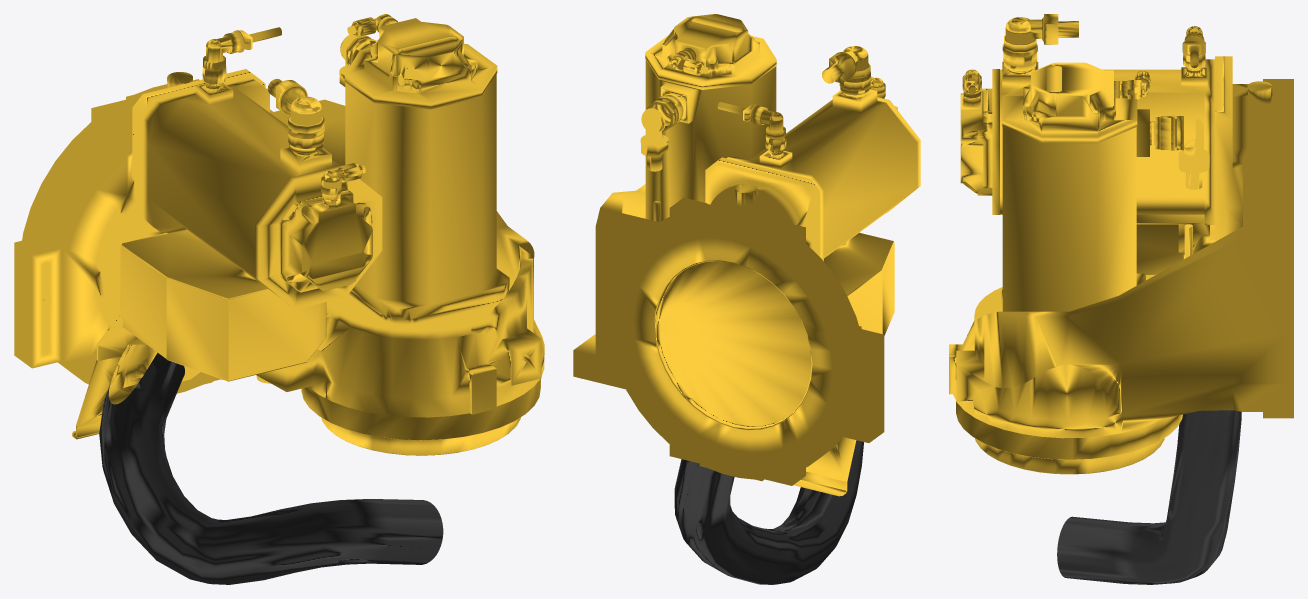
3 views of the same model, side by side, from view 1: azimuth 30°, elevation 25°; view 2: azimuth 150°, elevation 25°; view 3: azimuth 270°, elevation 25° (orthographic). The views are drawn at different scales.
Parts seen in each view (by area): view 1: Node_0x7fd4b585cda0 (×2); view 2: Node_0x7fd4b585cda0 (×2); view 3: Node_0x7fd4b585cda0 (×2).
Part boxes in pixels (box(x1,y1,x2,y2)): Node_0x7fd4b585cda0 (×2): box(14, 14, 544, 584); Node_0x7fd4b585cda0 (×2): box(573, 14, 920, 584); Node_0x7fd4b585cda0 (×2): box(949, 14, 1293, 584).
Size of the model in its own units: 0.428 by 0.5716 by 0.3344.
